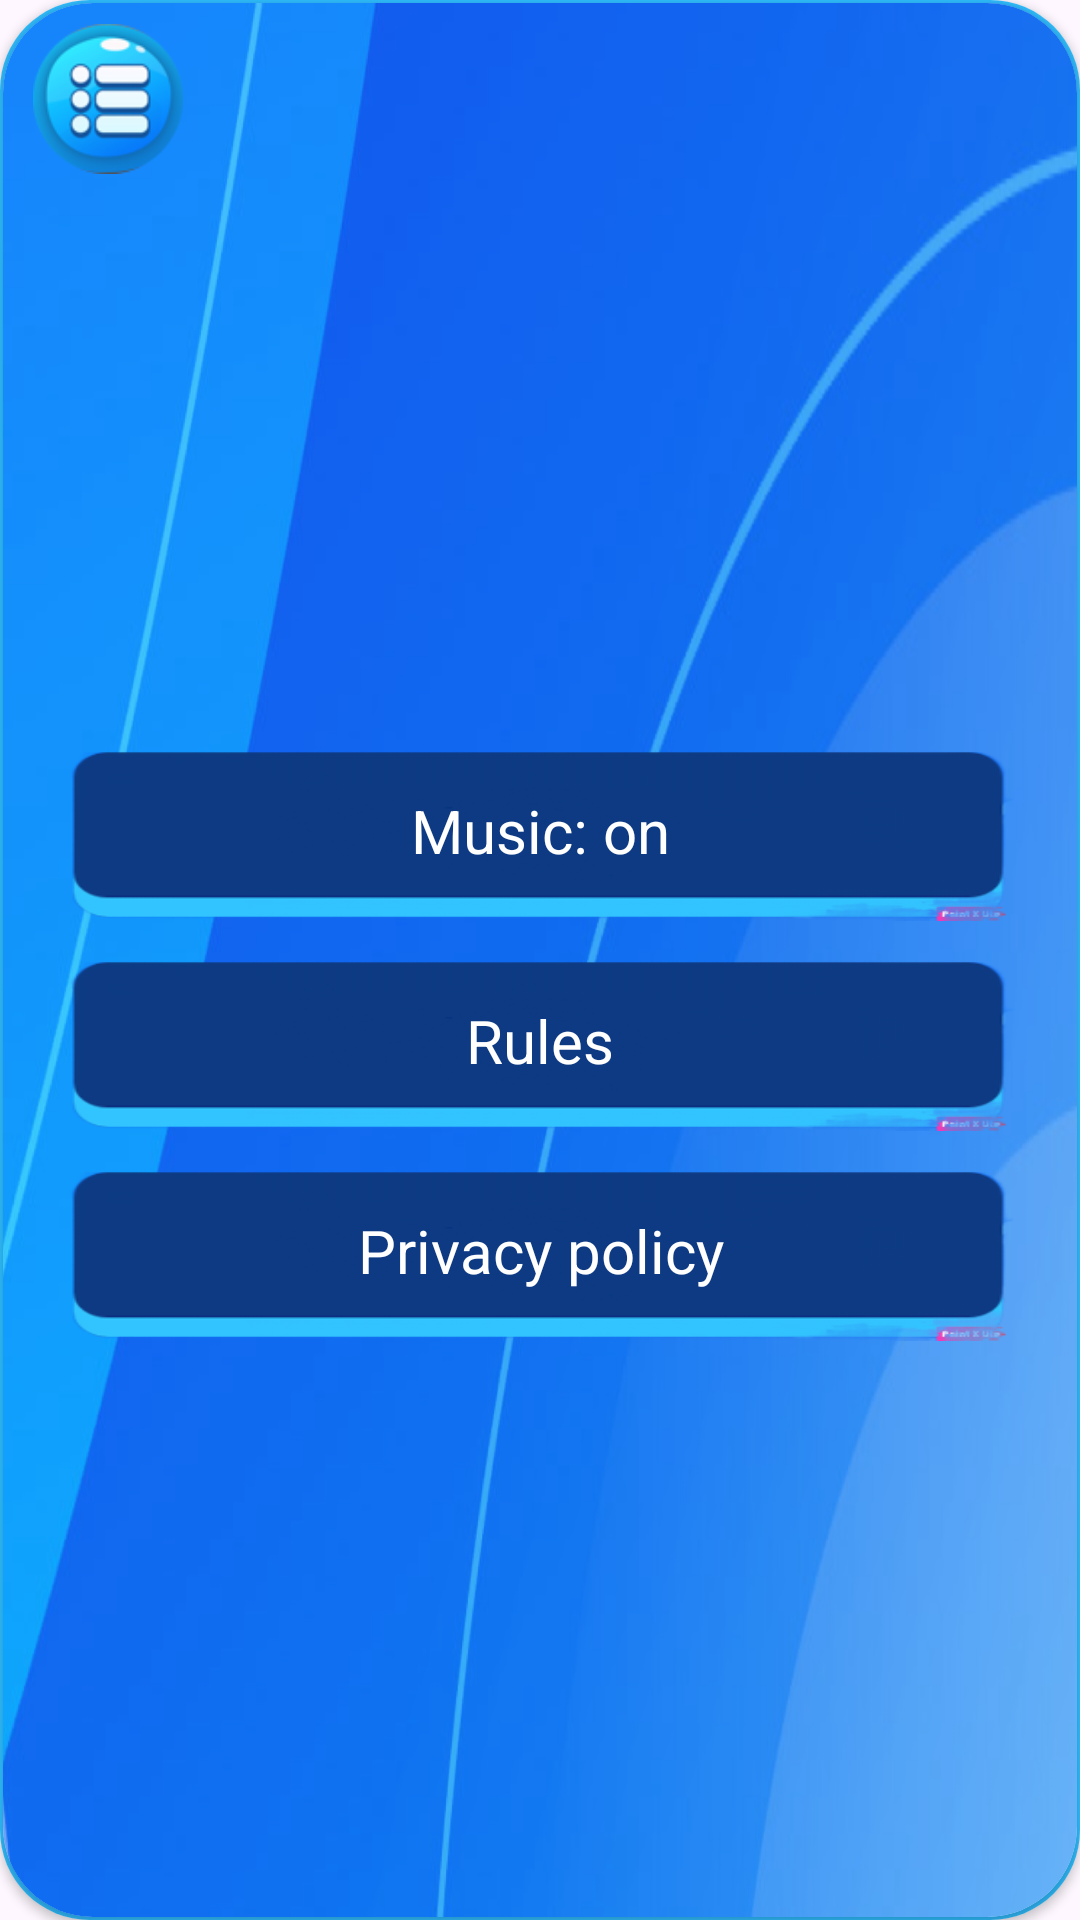

Locate icon controls on the screen. Image size 1080 x 1920, boxes as (left=x1, top=y1, right=x2, bottom=y2).
menu: (left=33, top=24, right=183, bottom=174)
